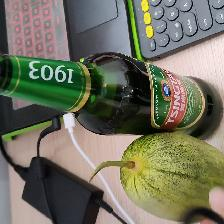gua: (110, 143, 211, 207)
